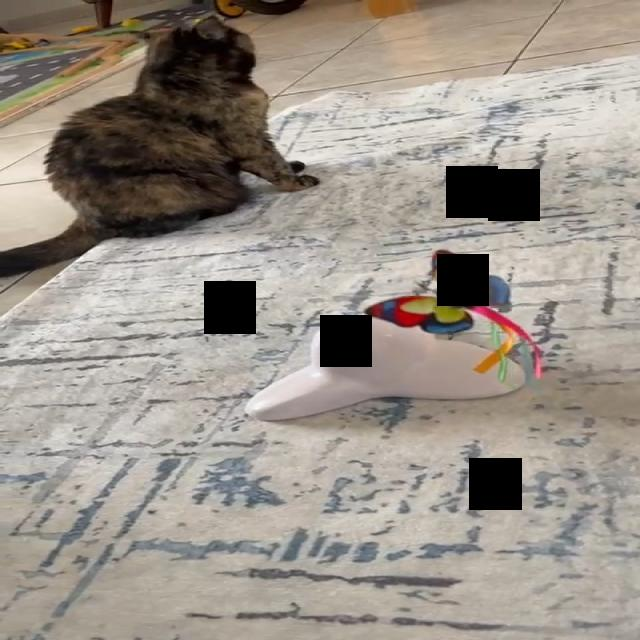authorized: (0, 13, 319, 278)
